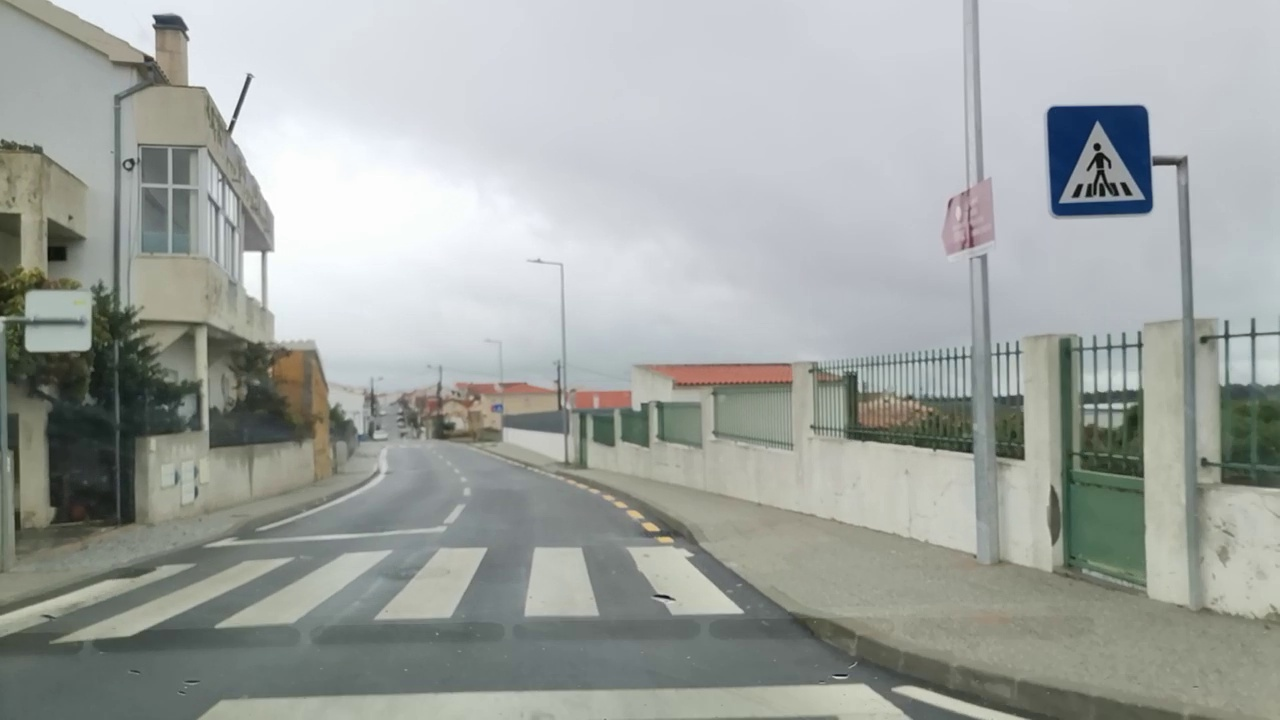Stairs: (0, 543, 744, 642)
